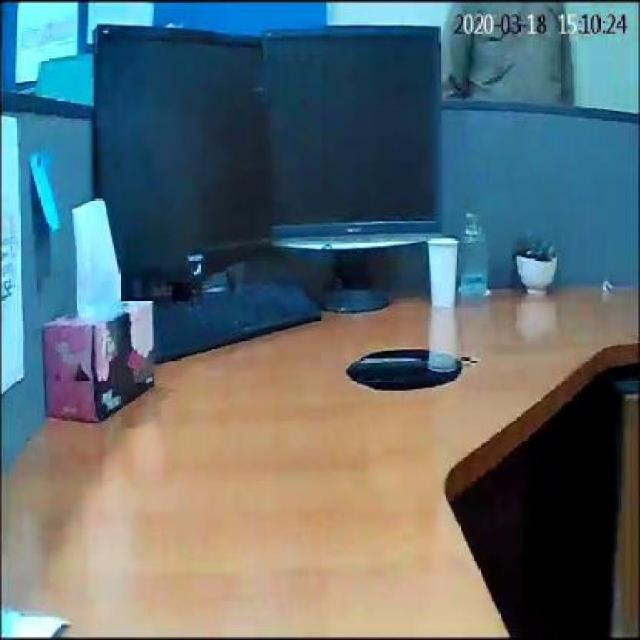spill: (340, 341, 466, 394)
